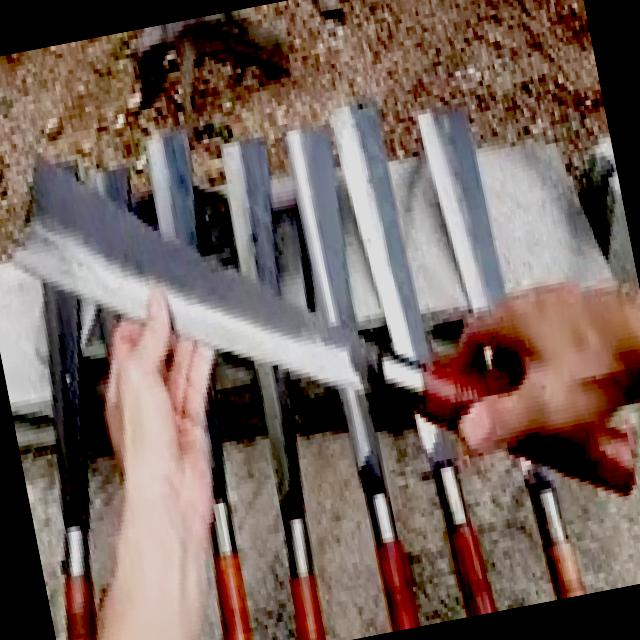eto: (7, 149, 633, 494)
